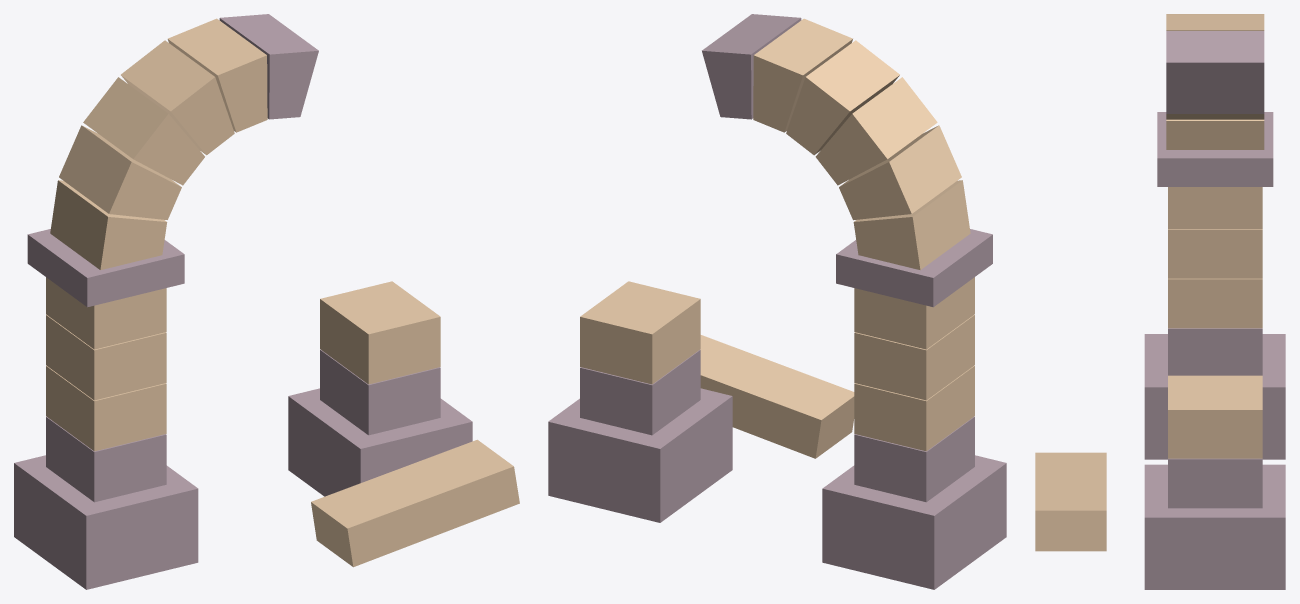
The model's file is coastal_ruin.obj.
3 renders of one model, left to right at view 1: azimuth 30°, elevation 25°; view 2: azimuth 150°, elevation 25°; view 3: azimuth 270°, elevation 25°, orthographic. The views are drawn at different scales.
Parts seen in each view (by area): view 1: foot_0, fallen_lintel, foot_2, pier_2_1, arch_stone_1, arch_stone_3, arch_stone_2, capital, pier_0_0, pier_0_1, pier_0_2, pier_2_0 (+4 smaller); view 2: foot_0, foot_2, fallen_lintel, pier_2_1, arch_stone_1, arch_stone_3, arch_stone_2, capital, pier_0_0, pier_0_1, pier_0_2, pier_2_0 (+4 smaller); view 3: foot_2, arch_stone_5, pier_2_1, fallen_lintel, foot_0, capital, pier_0_1, pier_2_0, pier_0_2, pier_0_0, pier_0_3, arch_stone_0 (+2 smaller).
Boxes of the visible parts, bbox=[...] form: foot_0: bbox=[14, 455, 198, 589]; fallen_lintel: bbox=[311, 439, 519, 567]; foot_2: bbox=[288, 388, 472, 496]; pier_2_1: bbox=[320, 281, 440, 384]; arch_stone_1: bbox=[59, 125, 181, 219]; arch_stone_3: bbox=[121, 40, 234, 155]; arch_stone_2: bbox=[83, 77, 204, 185]; capital: bbox=[27, 229, 184, 307]; pier_0_0: bbox=[46, 416, 166, 502]; pier_0_1: bbox=[46, 365, 166, 451]; pier_0_2: bbox=[46, 314, 166, 400]; pier_2_0: bbox=[320, 349, 440, 435]; foot_0: bbox=[822, 455, 1006, 589]; foot_2: bbox=[548, 388, 732, 522]; fallen_lintel: bbox=[700, 335, 854, 458]; pier_2_1: bbox=[580, 281, 700, 384]; arch_stone_1: bbox=[839, 125, 961, 220]; arch_stone_3: bbox=[786, 40, 899, 155]; arch_stone_2: bbox=[815, 77, 937, 185]; capital: bbox=[836, 229, 992, 307]; pier_0_0: bbox=[854, 416, 974, 502]; pier_0_1: bbox=[854, 365, 974, 451]; pier_0_2: bbox=[854, 314, 974, 400]; pier_2_0: bbox=[580, 349, 700, 435]; foot_2: bbox=[1144, 464, 1285, 589]; arch_stone_5: bbox=[1166, 31, 1264, 113]; pier_2_1: bbox=[1168, 375, 1262, 458]; fallen_lintel: bbox=[1035, 452, 1106, 551]; foot_0: bbox=[1144, 334, 1285, 459]; capital: bbox=[1157, 112, 1273, 186]; pier_0_1: bbox=[1168, 278, 1262, 328]; pier_2_0: bbox=[1168, 458, 1262, 508]; pier_0_2: bbox=[1168, 229, 1262, 278]; pier_0_0: bbox=[1168, 328, 1262, 375]; pier_0_3: bbox=[1168, 187, 1262, 228]; arch_stone_0: bbox=[1166, 119, 1264, 149].
Size of the model in its own units: 2.62 by 3.11 by 1.51.
